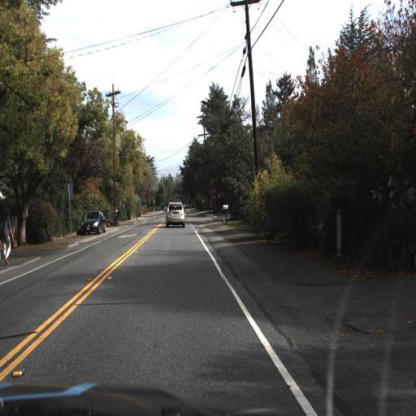car: (82, 207, 107, 240), (164, 201, 186, 236)
pedestrian: (2, 203, 15, 269)
